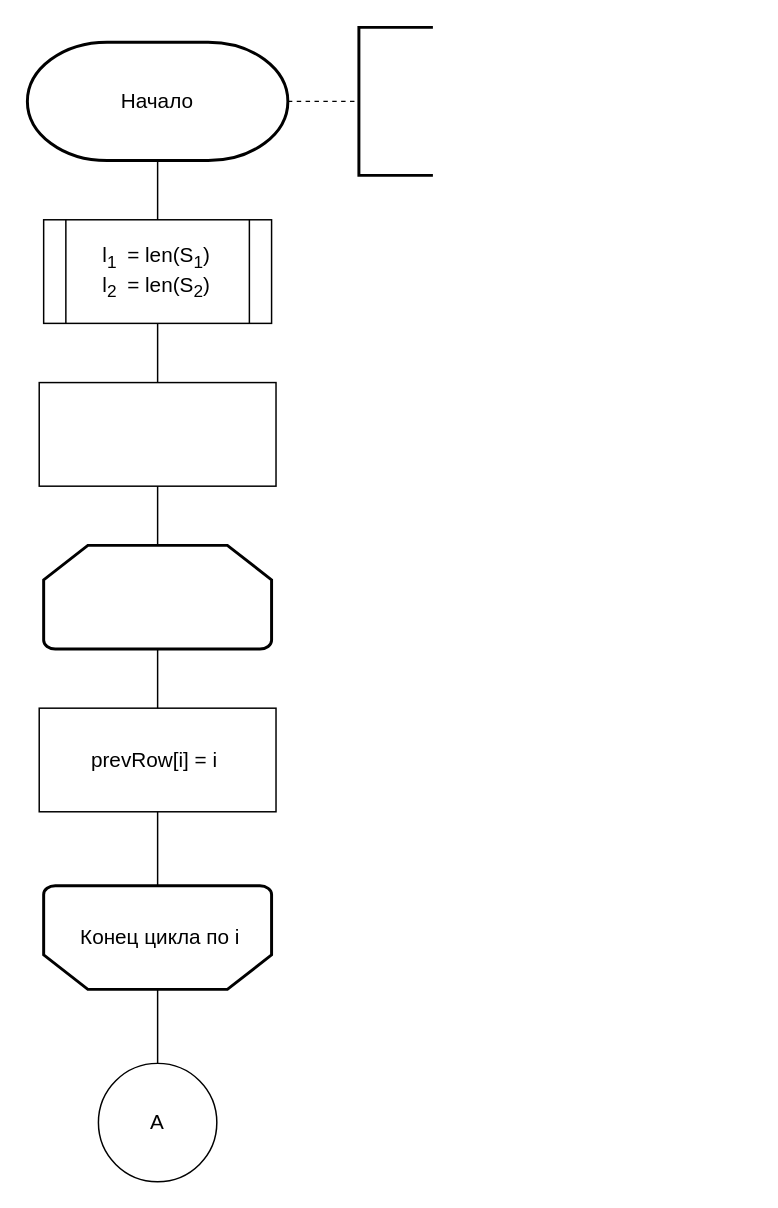
Some shapes in this 778 by 1208 pixel diagram are drawn without their labels. The shapes that lost their labels are listed below. From the top down, each one's centre as x and y in pixels, then its label:
point (395, 100): Расстояние Левенштейна Входные данные: строки S 1 и S 2 Выходные данные: число
point (157, 433): prevRow = int(0)[l 2 + 1] currRow = int(0)[l 2 + 1]
point (156, 596): Цикл i от 0 до l 2 + 1
